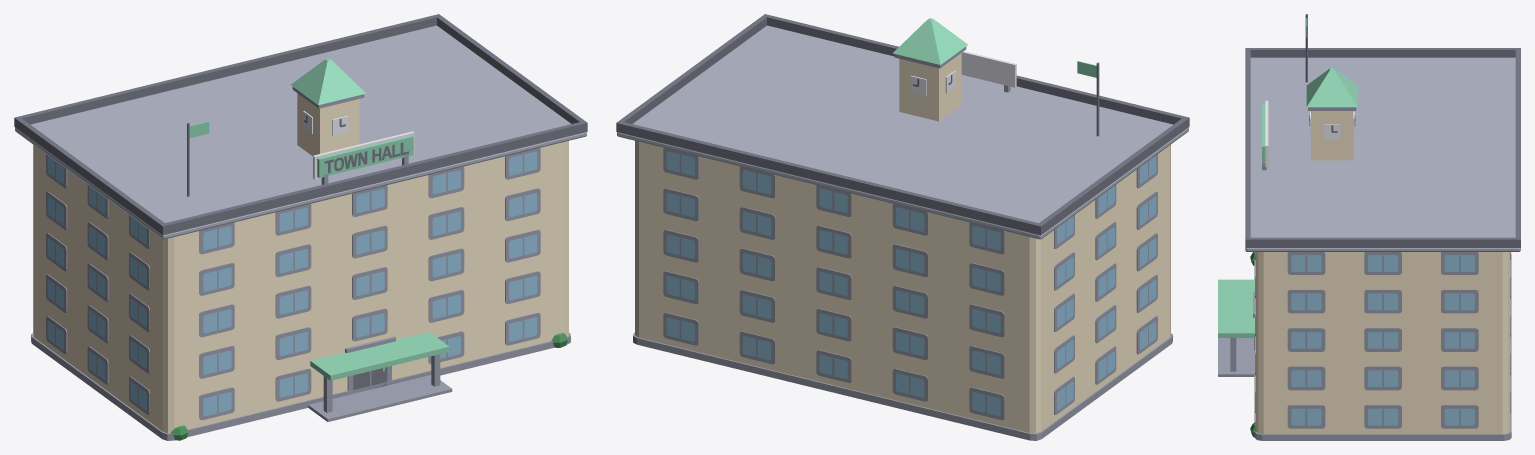
File: town-hall-3x2-5f.glb
The picture shows the model from 3 angles, left to right: view 1: azimuth 30°, elevation 25°; view 2: azimuth 150°, elevation 25°; view 3: azimuth 270°, elevation 25°; orthographic projection. The views are drawn at different scales.
Parts seen in each view (by area): view 1: town-hall-3x2-5f; view 2: town-hall-3x2-5f; view 3: town-hall-3x2-5f.
Part boxes in pixels (<box>): town-hall-3x2-5f: <box>14,14,587,440</box>; town-hall-3x2-5f: <box>616,14,1189,440</box>; town-hall-3x2-5f: <box>1218,14,1520,440</box>.
Bounding box in the file's own units: 3 × 2.04 × 2.
1 material, 1 textured.
